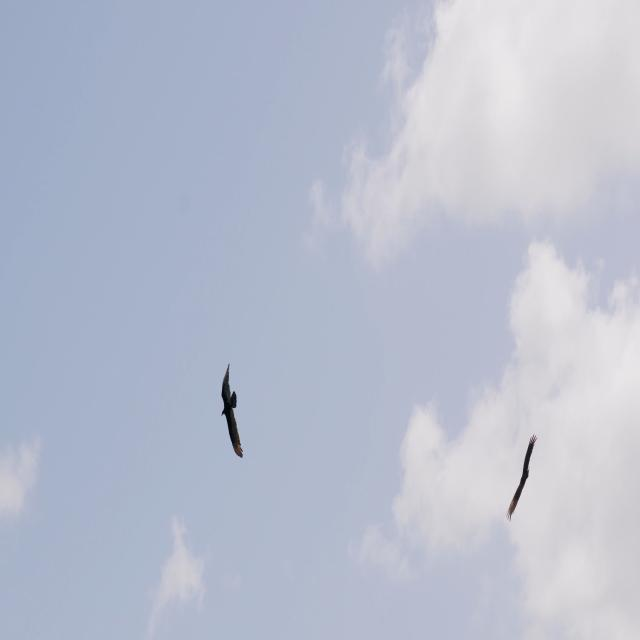bird: (505, 432, 538, 523), (220, 361, 244, 459)
